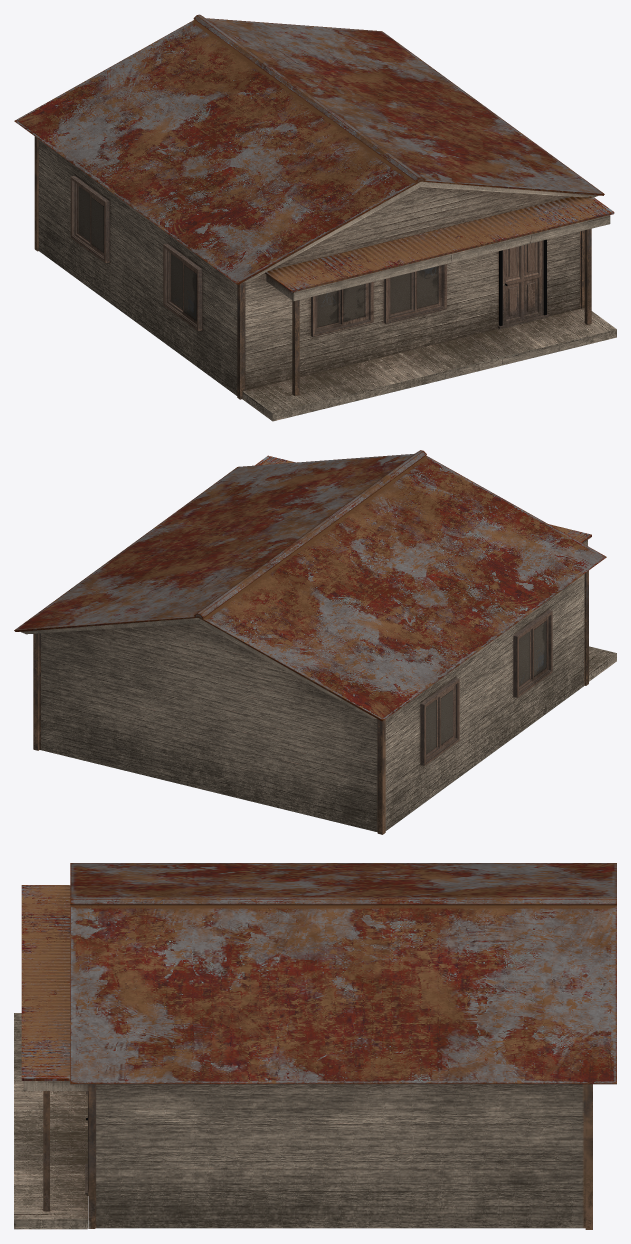
Rendered from cabin.glb.
The picture shows the model from 3 angles, top to bottom: view 1: azimuth 30°, elevation 25°; view 2: azimuth 150°, elevation 25°; view 3: azimuth 270°, elevation 25°; orthographic projection. The views are drawn at different scales.
Parts seen in each view (by area): view 1: Cube.022; view 2: Cube.022; view 3: Cube.022.
Part boxes in pixels (<box>): Cube.022: <box>14,14,616,421</box>; Cube.022: <box>14,450,616,834</box>; Cube.022: <box>14,863,616,1229</box>.
Size of the model in its own units: 9.75 by 4.69 by 11.27.
1 material, 1 textured.
